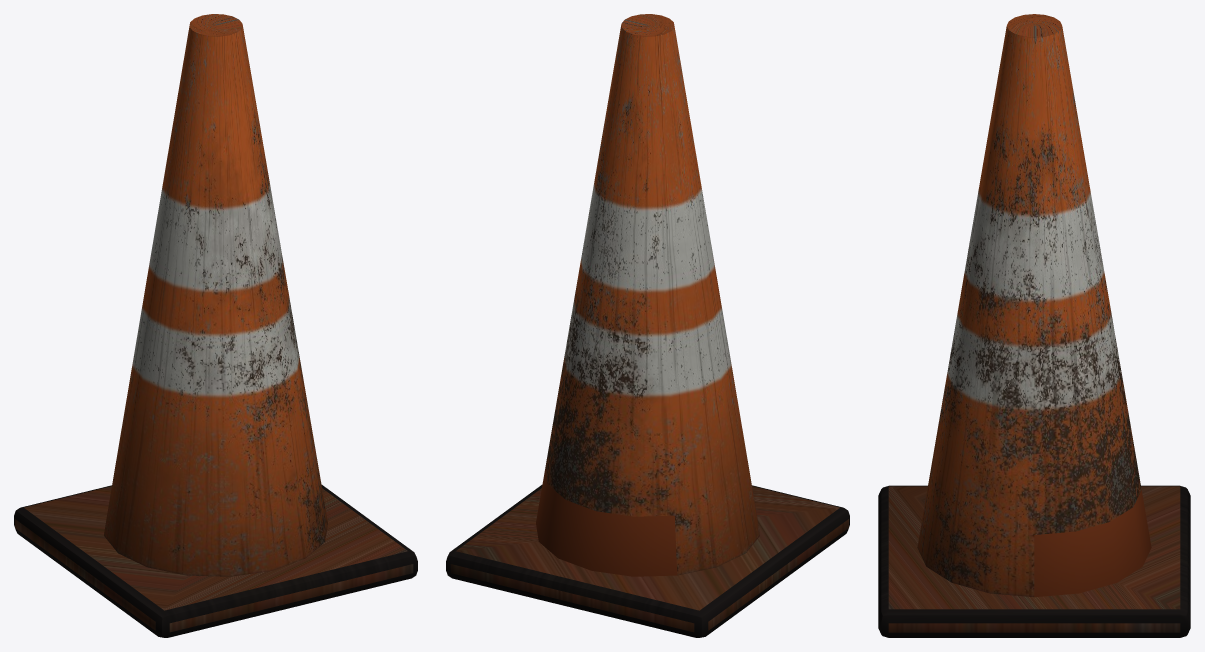
The model's file is road_cone.glb.
3 renders of one model, left to right at view 1: azimuth 30°, elevation 25°; view 2: azimuth 150°, elevation 25°; view 3: azimuth 270°, elevation 25°, orthographic. The views are drawn at different scales.
Parts seen in each view (by area): view 1: road_cone; view 2: road_cone; view 3: road_cone.
Part boxes in pixels (bbox=[...]): road_cone: bbox=[14, 14, 417, 637]; road_cone: bbox=[446, 14, 849, 637]; road_cone: bbox=[878, 14, 1190, 637].
Size of the model in its own units: 0.36 by 0.7 by 0.36.
1 material, 1 textured.
